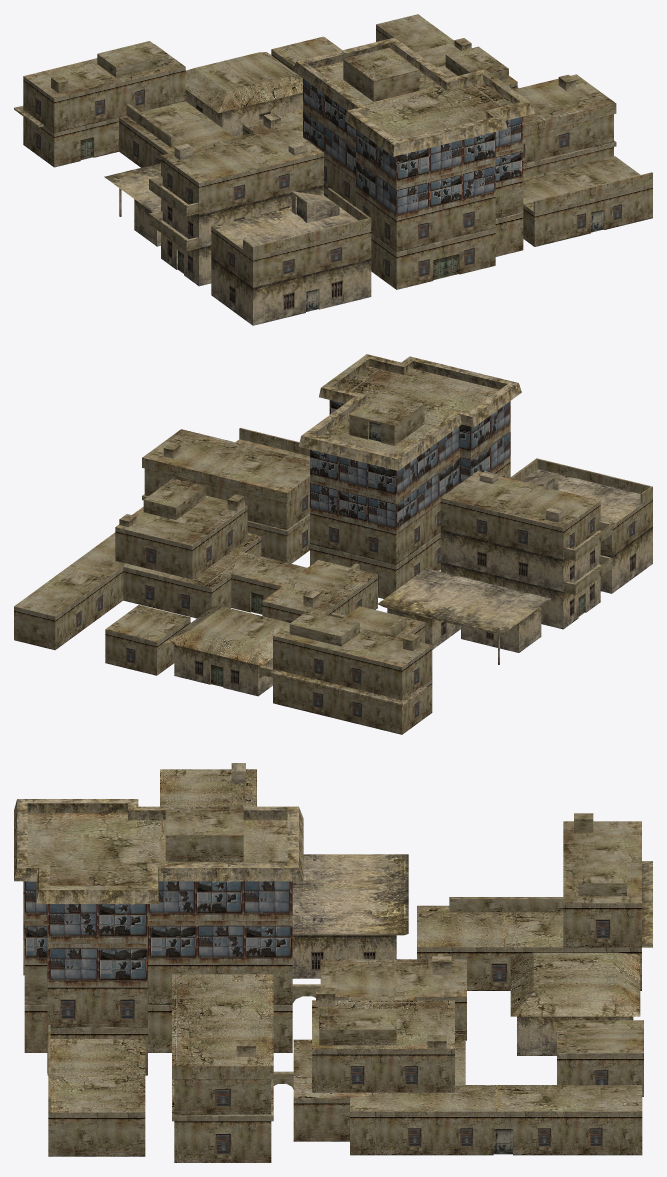
Rendered from mogblk03.glb.
3 renders of one model, top to bottom at view 1: azimuth 30°, elevation 25°; view 2: azimuth 150°, elevation 25°; view 3: azimuth 270°, elevation 25°, orthographic. The views are drawn at different scales.
Visible parts, largest first — view 1: _mogblk03; view 2: _mogblk03; view 3: _mogblk03.
Part boxes in pixels (<box>): _mogblk03: <box>14,14,652,325</box>; _mogblk03: <box>14,354,652,734</box>; _mogblk03: <box>14,763,652,1162</box>.
Size of the model in its own units: 66.06 by 23.35 by 65.94.
Materials: 2 (2 with a texture image).
